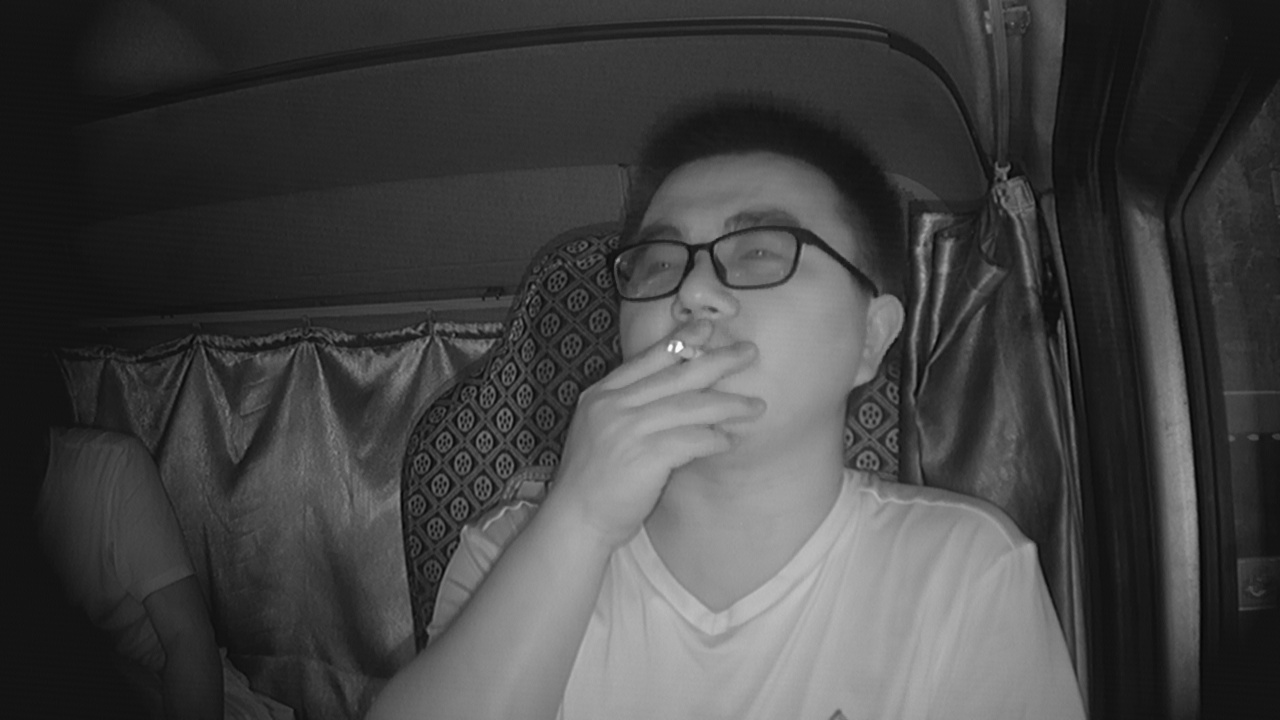hand: (575, 321, 773, 502)
